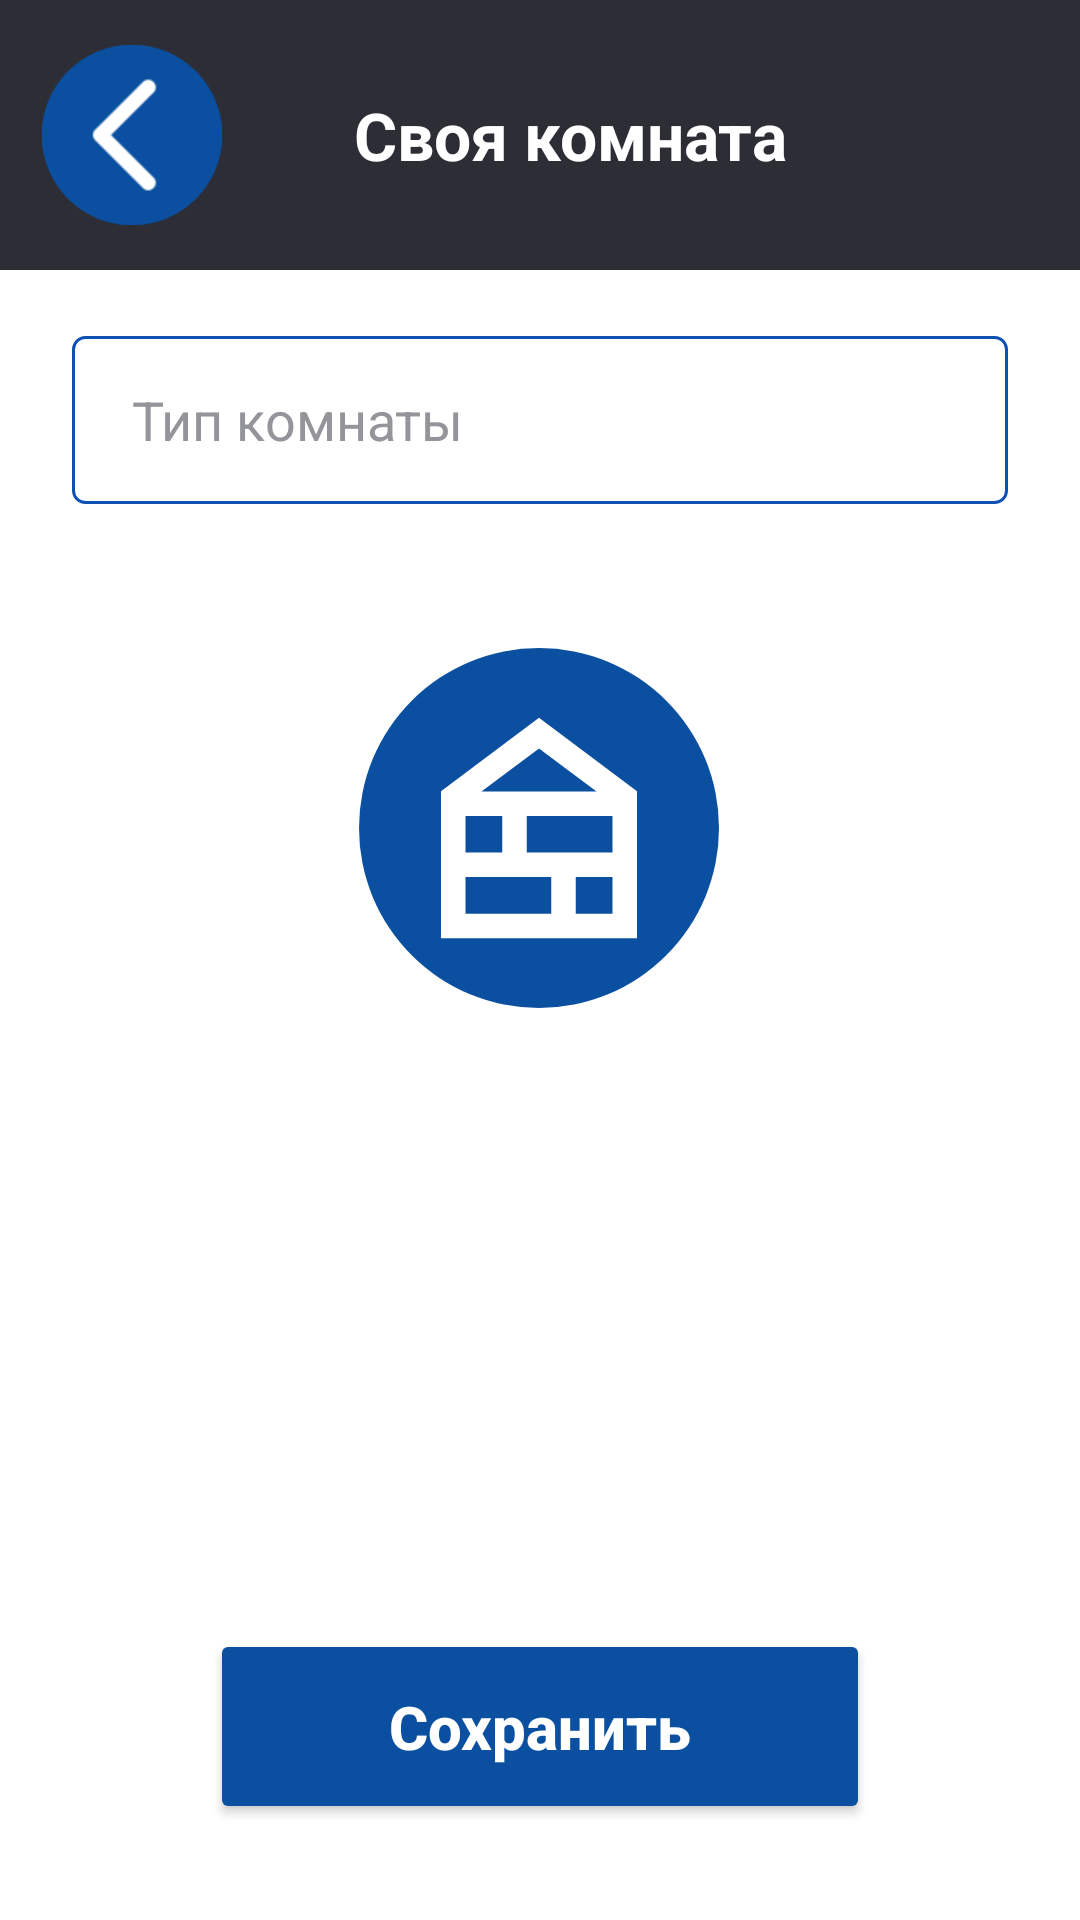

Named icons in this screenshot (1080×1920) and their bounding boxes, BBox(x1, y1, x2, y2):
backarrow: BBox(42, 45, 222, 225)
